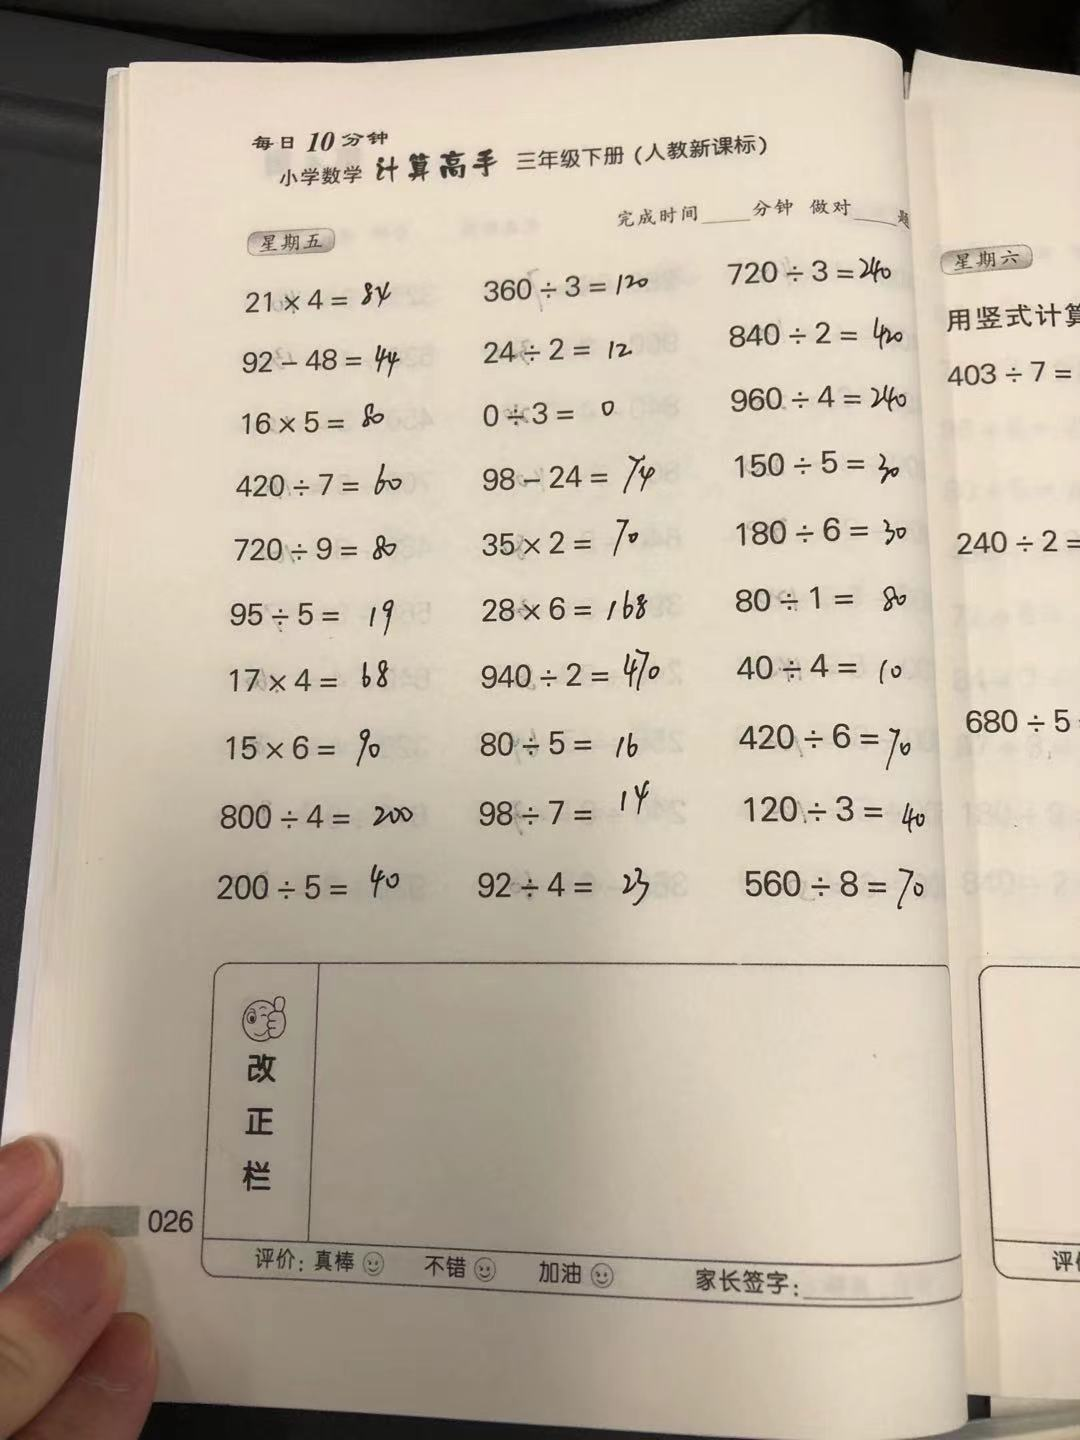equation: (470, 450, 692, 507), (463, 861, 678, 918), (222, 332, 420, 391), (733, 856, 933, 914), (723, 635, 914, 694), (223, 594, 428, 645), (727, 444, 927, 497), (470, 638, 670, 689), (741, 785, 933, 838), (717, 245, 898, 300), (463, 778, 680, 824), (212, 861, 420, 908), (465, 514, 677, 560), (474, 259, 665, 310), (722, 376, 920, 425), (217, 271, 413, 320), (729, 718, 919, 768), (214, 793, 428, 837), (717, 509, 912, 557), (710, 315, 914, 359), (231, 524, 412, 573), (226, 459, 413, 506), (221, 399, 420, 440), (466, 722, 661, 762), (219, 723, 396, 766), (219, 658, 410, 696), (473, 590, 675, 626), (475, 392, 657, 432), (725, 585, 927, 618), (465, 333, 646, 370)
